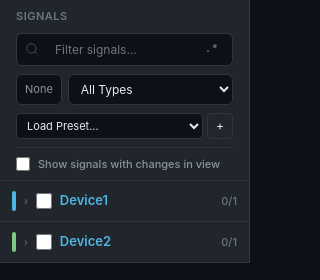
it: SignalSidebar › Device Expansion › auto-expands all devices when searching
Type in search
Type "Temp" into the field with placeholder "Filter signals..." at (123, 49), box [51,38,195,60]
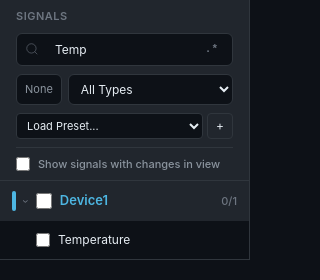
Expected: the text "Temperature" is shown, [58,231,130,249]
